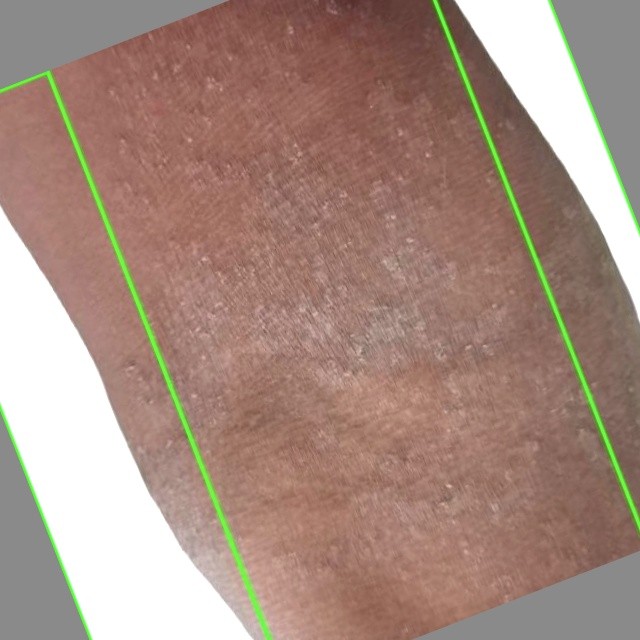Eczema: (0, 71, 269, 639), (434, 0, 639, 525)
